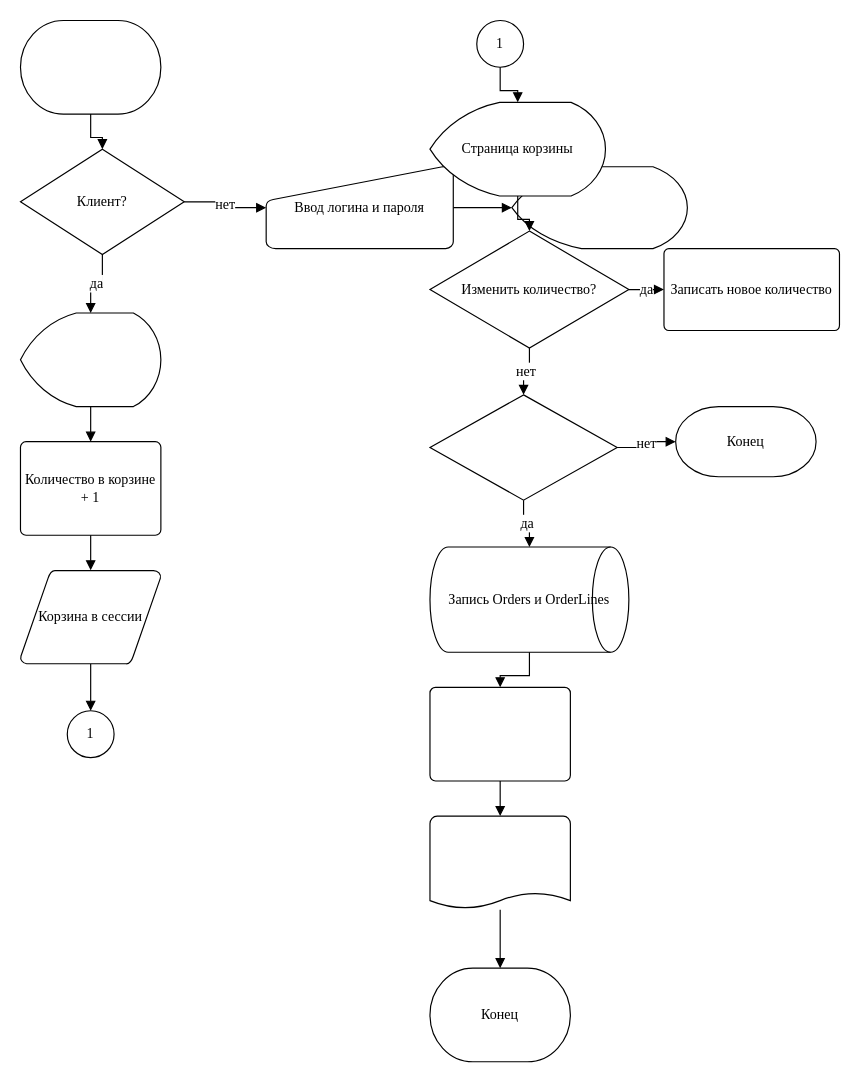
Some shapes in this 860 by 1082 pixel diagram are drawn without their labels. Each missing label, with the centre of its shape:
"Главная страница" goes at (599,207).
"Карточка товара" goes at (90,359).
"Начало" goes at (90,66).
"Оформить заказ?" goes at (523,447).
"Очистить корзину" goes at (499,733).
"Страница заказа" goes at (499,862).
